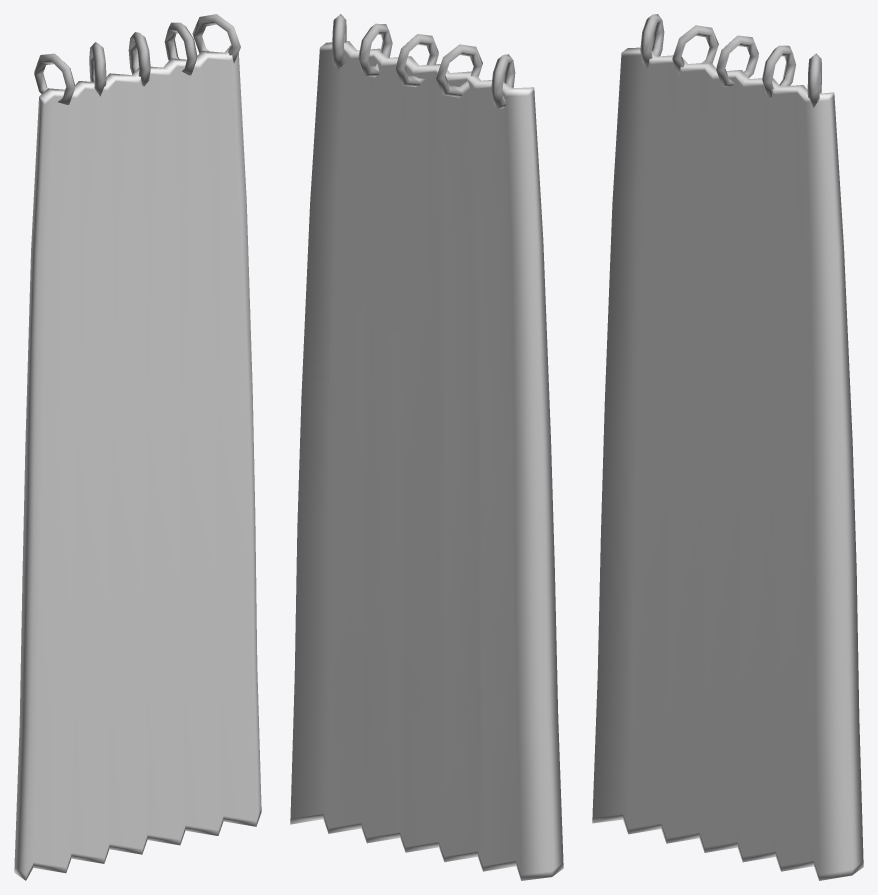
The model's file is curtain_020.fbx.
3 views of the same model, side by side, from view 1: azimuth 30°, elevation 25°; view 2: azimuth 150°, elevation 25°; view 3: azimuth 330°, elevation 25° (orthographic).
Parts seen in each view (by area): view 1: curtain_020; view 2: curtain_020; view 3: curtain_020.
Boxes of the visible parts, box(x1,y1,x2,y2) form: curtain_020: box(14, 14, 261, 880); curtain_020: box(290, 14, 563, 880); curtain_020: box(592, 14, 863, 880).
Bounding box in the file's own units: 112 × 25.27 × 348.
